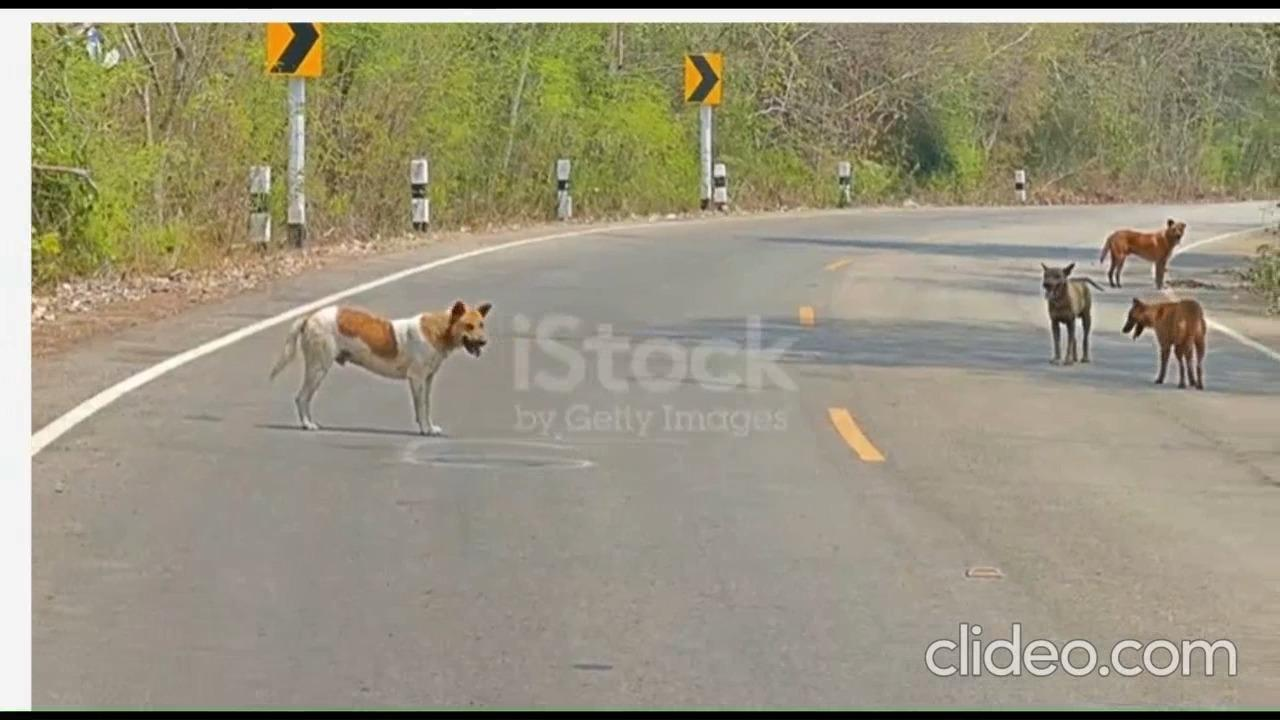dog: (274, 294, 489, 443), (1123, 291, 1210, 400), (1037, 254, 1103, 375), (1096, 214, 1191, 291)
